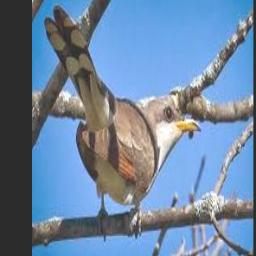Cuckoo: (45, 5, 202, 219)
